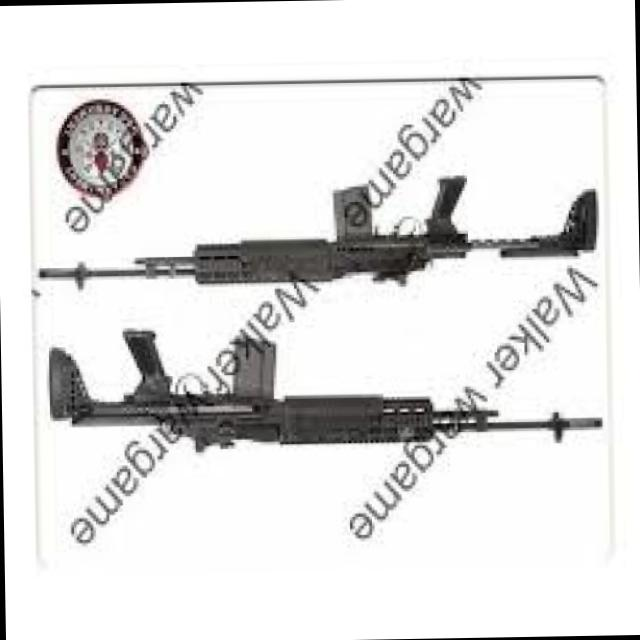Gun: (33, 296, 615, 480), (31, 150, 614, 312)
